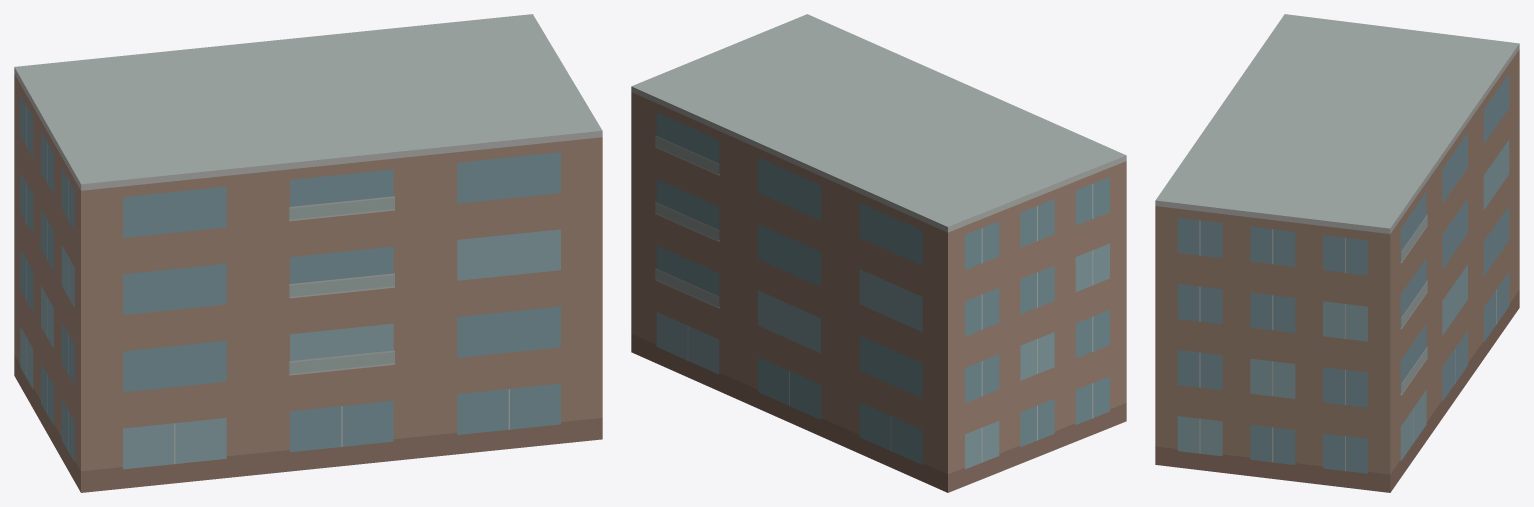
Rendered from survey-upis-32879743.glb.
The picture shows the model from 3 angles, left to right: view 1: azimuth 30°, elevation 25°; view 2: azimuth 150°, elevation 25°; view 3: azimuth 270°, elevation 25°; orthographic projection. The views are drawn at different scales.
Visible parts, largest first — view 1: survey-upis-32879743.tmp; view 2: survey-upis-32879743.tmp; view 3: survey-upis-32879743.tmp.
Part boxes in pixels (x1,y1,x2,y2): survey-upis-32879743.tmp: (14, 14, 602, 492); survey-upis-32879743.tmp: (631, 14, 1126, 492); survey-upis-32879743.tmp: (1155, 14, 1519, 492).
Size of the model in its own units: 20.38 by 11.7 by 14.62.
